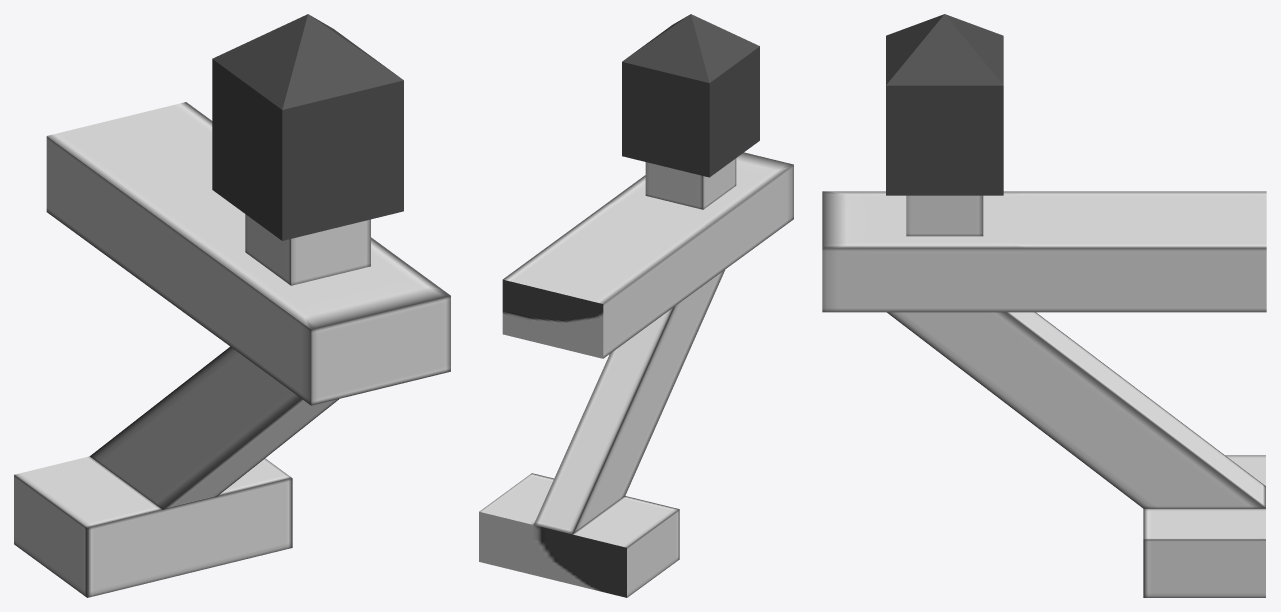
Rendered from Utility-Pole-04.fbx.
3 renders of one model, left to right at view 1: azimuth 30°, elevation 25°; view 2: azimuth 150°, elevation 25°; view 3: azimuth 270°, elevation 25°, orthographic. The views are drawn at different scales.
Parts seen in each view (by area): view 1: Utility_Pose_04; view 2: Utility_Pose_04; view 3: Utility_Pose_04.
Part boxes in pixels (x1,y1,x2,y2): Utility_Pose_04: [14, 14, 450, 597]; Utility_Pose_04: [479, 14, 793, 597]; Utility_Pose_04: [822, 14, 1266, 597].
Size of the model in its own units: 0.1705 by 0.5122 by 0.3806.
